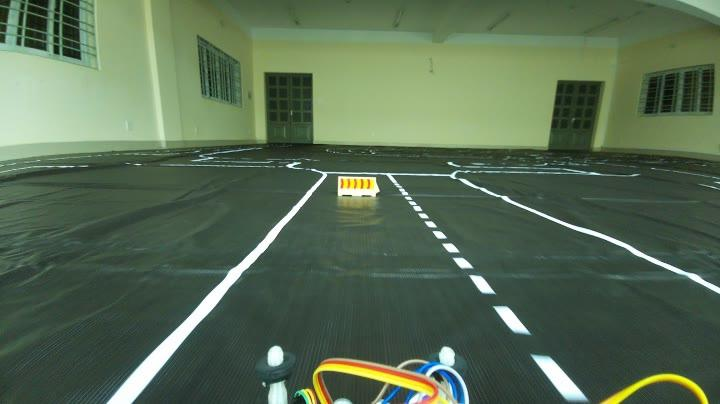roadblock: (330, 168, 384, 206)
